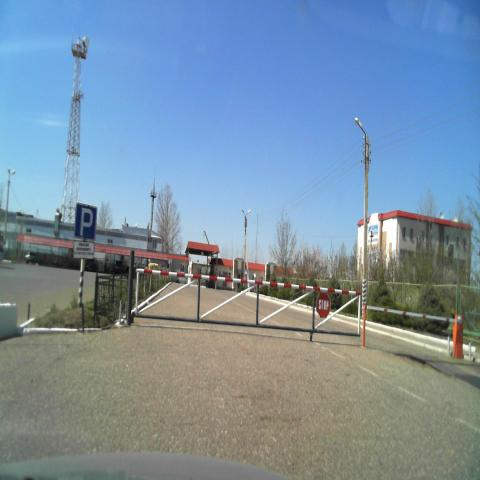2_5: (316, 294, 331, 318)
6_4: (74, 202, 97, 242)
